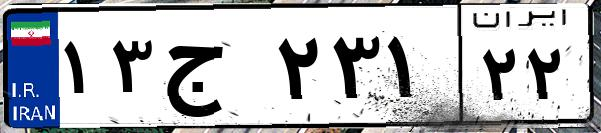1: (385, 28, 445, 110), (57, 26, 110, 100)
2: (270, 28, 330, 110), (475, 38, 525, 113), (525, 38, 570, 115)
3: (330, 28, 385, 110), (110, 28, 158, 98)
ج: (158, 20, 270, 120)
